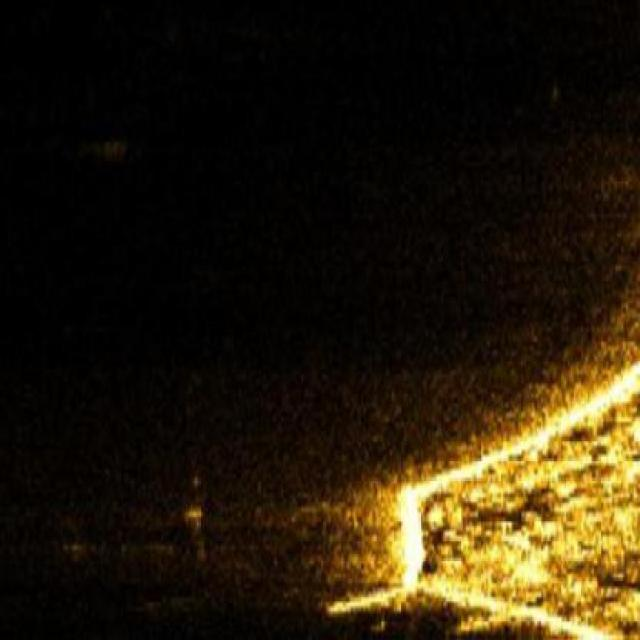bedrock group: (388, 367, 640, 639)
